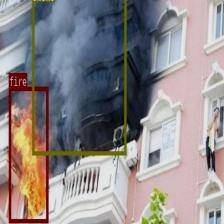fire: (8, 86, 48, 222)
smoke: (31, 0, 125, 154)
